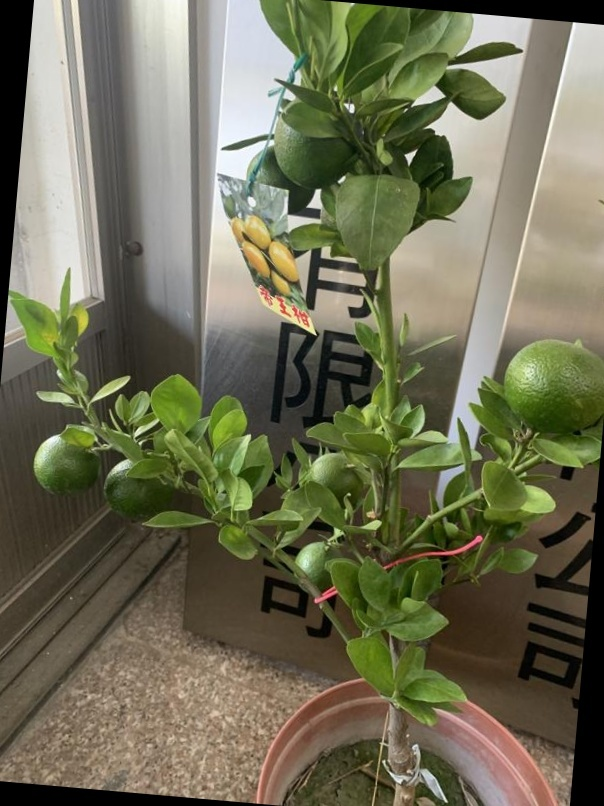Tangerine: (500, 341, 603, 432), (276, 110, 356, 190), (99, 454, 173, 522), (34, 425, 103, 492)
